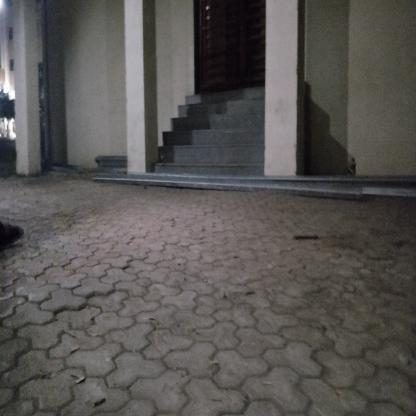stairs: (180, 89, 264, 177)
